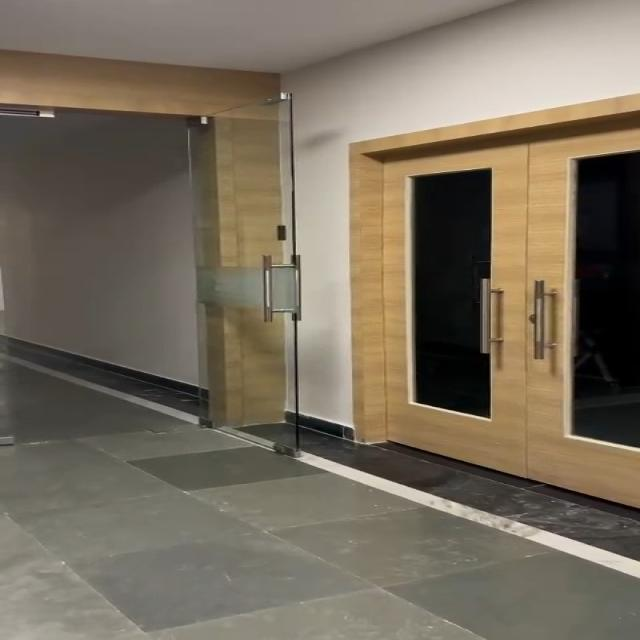door: (342, 141, 640, 478)
floor: (0, 445, 640, 640)
wall: (0, 132, 285, 358)
